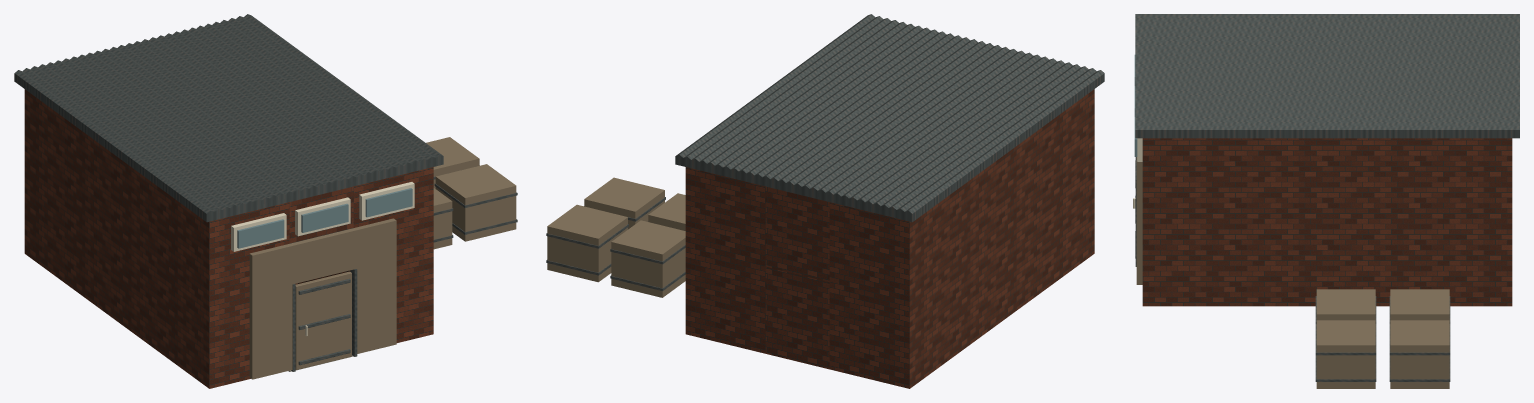
Rendered from haulage.glb.
3 renders of one model, left to right at view 1: azimuth 30°, elevation 25°; view 2: azimuth 150°, elevation 25°; view 3: azimuth 270°, elevation 25°, orthographic.
Visible parts, largest first — view 1: cargo corrugated roof, cargo shed wing, loading gate side, loading wicket, cargo clerestory glazing, cargo clerestory frame, wicket steel brace; view 2: cargo shed wing, cargo corrugated roof, loading gate side; view 3: cargo shed wing, cargo corrugated roof, loading gate side.
Boxes of the visible parts, <box> form: cargo corrugated roof: <box>14,14,517,371</box>; cargo shed wing: <box>24,89,433,388</box>; loading gate side: <box>249,137,516,379</box>; loading wicket: <box>295,271,351,369</box>; cargo clerestory glazing: <box>237,188,412,248</box>; cargo clerestory frame: <box>231,182,414,251</box>; wicket steel brace: <box>298,278,350,365</box>; cargo shed wing: <box>685,89,1094,388</box>; cargo corrugated roof: <box>546,14,1104,290</box>; loading gate side: <box>547,177,685,297</box>; cargo shed wing: <box>1142,138,1512,306</box>; cargo corrugated roof: <box>1135,14,1519,381</box>; loading gate side: <box>1136,157,1449,388</box>.
Bounding box in the file's own units: 12.52 × 5.5 × 10.46.
6 materials, 2 textured.
